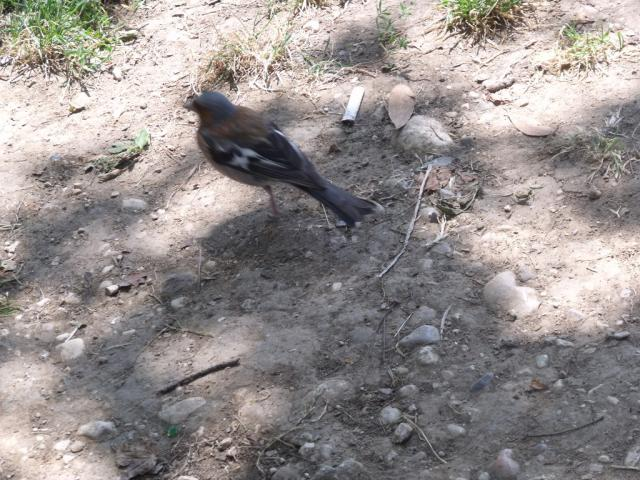Bird: (182, 89, 387, 239)
